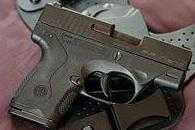gun: (1, 1, 195, 130)
